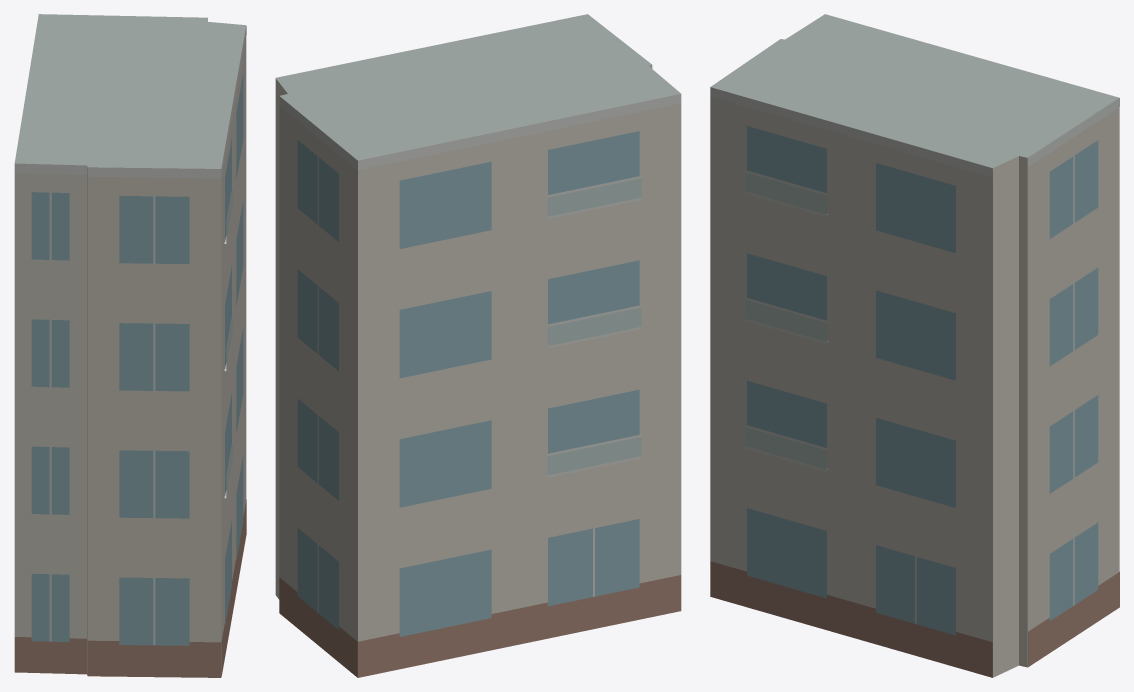
Rendered from survey-upis-32933295.glb.
3 renders of one model, left to right at view 1: azimuth 30°, elevation 25°; view 2: azimuth 150°, elevation 25°; view 3: azimuth 270°, elevation 25°, orthographic.
Visible parts, largest first — view 1: survey-upis-32933295.tmp; view 2: survey-upis-32933295.tmp; view 3: survey-upis-32933295.tmp.
Boxes of the visible parts, x1,y1,x2,y2 form: survey-upis-32933295.tmp: (14,14,246,677); survey-upis-32933295.tmp: (275,14,681,677); survey-upis-32933295.tmp: (710,14,1119,677).
Bounding box in the file's own units: 8.58 × 13.2 × 9.62.
